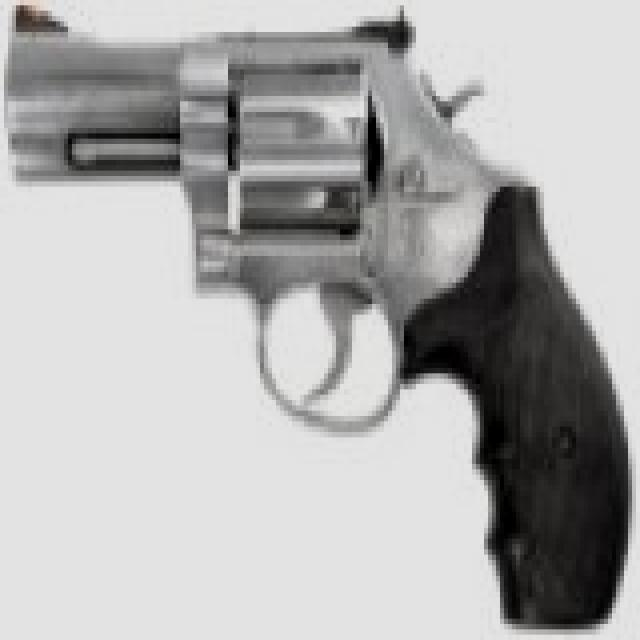pistol: (8, 0, 620, 629)
